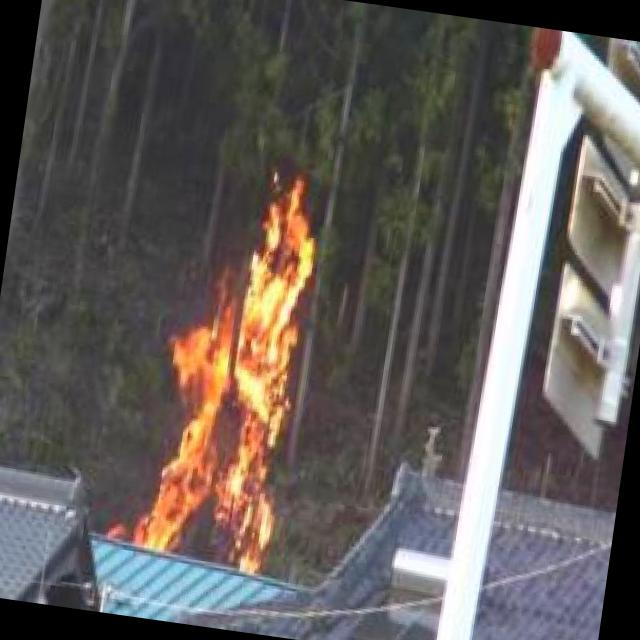Fire: (99, 140, 345, 576)
